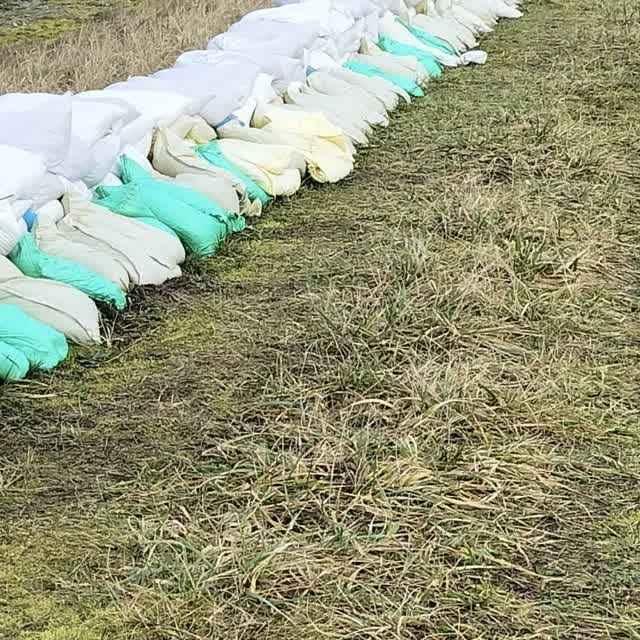sandbag: (95, 155, 245, 257), (61, 192, 186, 287), (0, 256, 100, 344), (11, 234, 126, 309), (32, 221, 135, 289), (0, 93, 73, 164), (0, 304, 69, 370), (152, 132, 212, 177), (175, 174, 240, 211), (0, 148, 45, 199), (0, 341, 29, 380)
